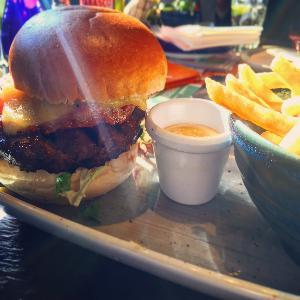cheeseburger_475cal: (5, 5, 169, 212)
fries_350cal: (206, 52, 300, 147)
